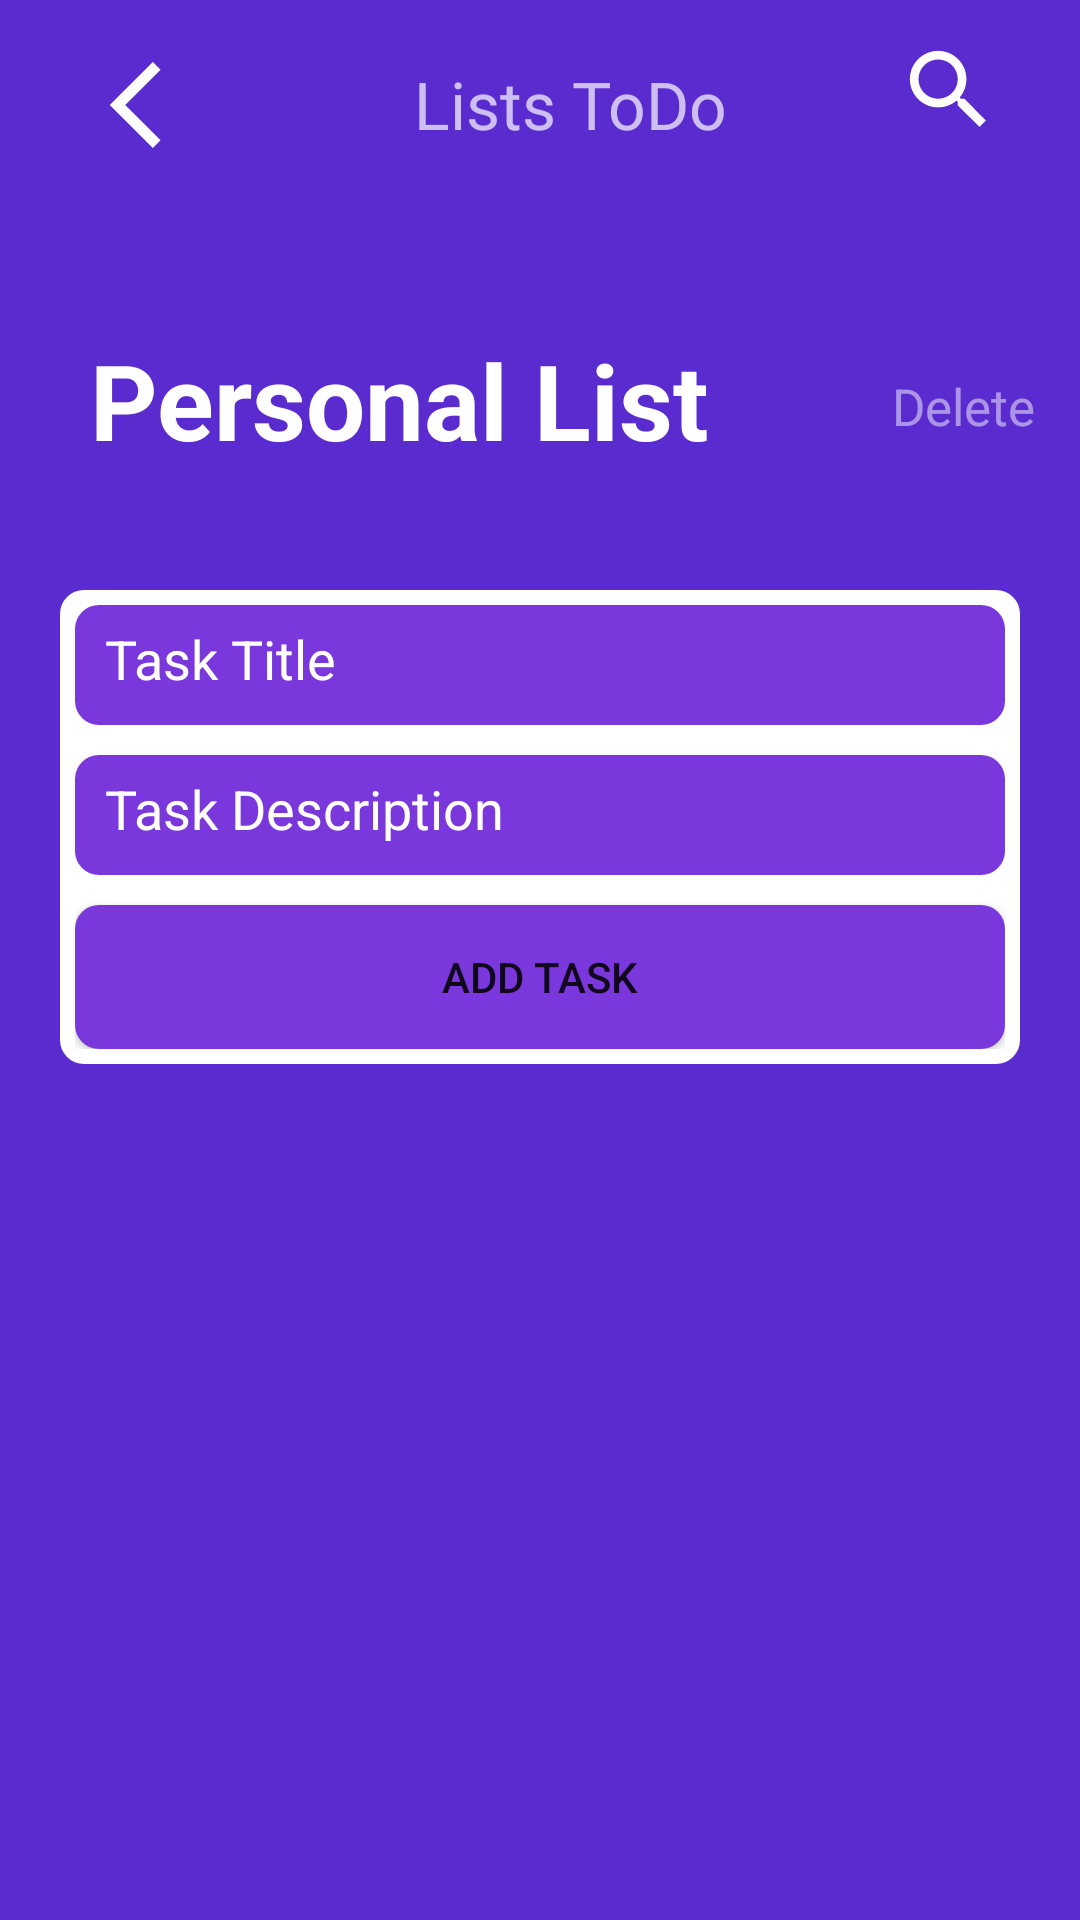

Icon click points for this 1080 x 1920 phone screenshot, format (x,y):
arrowback: (135,105)
searchlight: (947,88)
